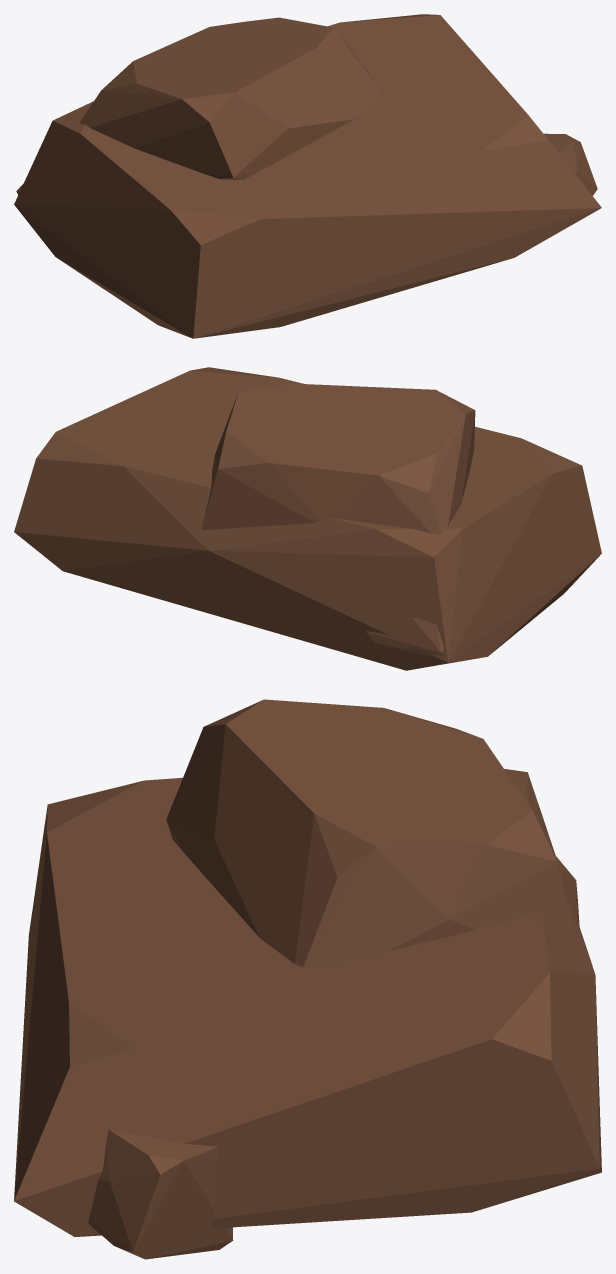
The model's file is env_rock_c.fbx.
3 views of the same model, one above another, from view 1: azimuth 30°, elevation 25°; view 2: azimuth 150°, elevation 25°; view 3: azimuth 270°, elevation 25° (orthographic). The views are drawn at different scales.
Parts seen in each view (by area): view 1: Rock; view 2: Rock; view 3: Rock.
Boxes of the visible parts, x1,y1,x2,y2 form: Rock: (14, 14, 601, 338); Rock: (14, 367, 601, 670); Rock: (14, 699, 601, 1259).
Bounding box in the file's own units: 16.9 × 6.82 × 11.58.
